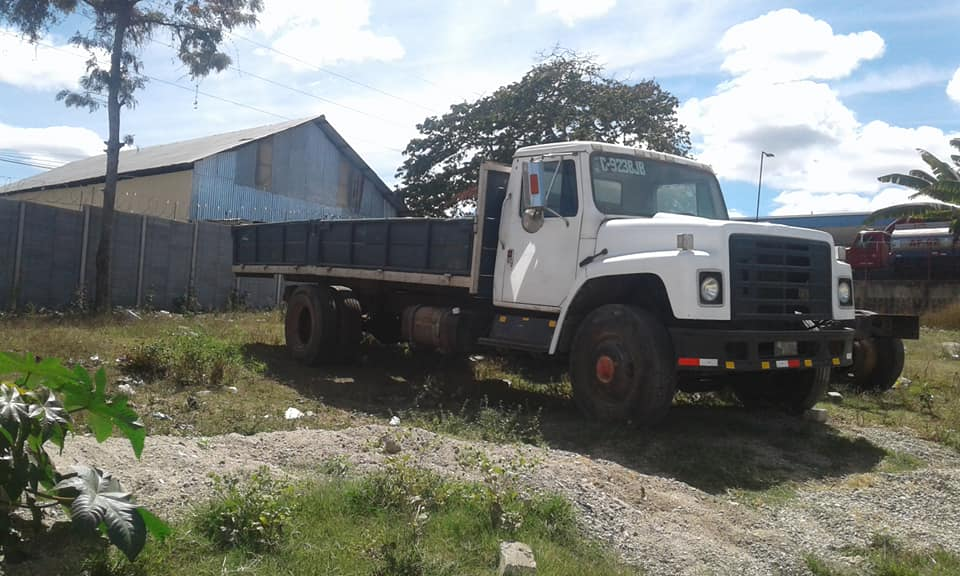camion: (234, 137, 861, 437)
